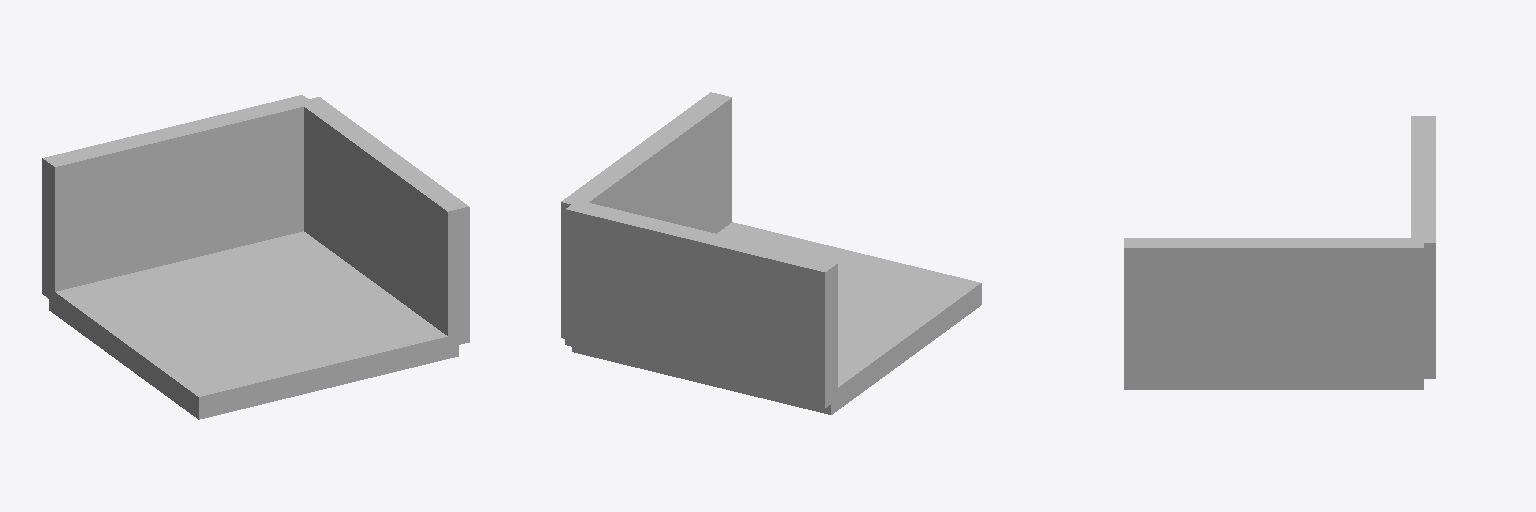
Rendered from tile8.obj.
3 renders of one model, left to right at view 1: azimuth 30°, elevation 25°; view 2: azimuth 150°, elevation 25°; view 3: azimuth 270°, elevation 25°, orthographic.
Parts seen in each view (by area): view 1: Cube_Cube.001, Cube.002_Cube.005, Cube.001_Cube.004; view 2: Cube.002_Cube.005, Cube_Cube.001, Cube.001_Cube.004; view 3: Cube.001_Cube.004, Cube.002_Cube.005, Cube_Cube.001.
Part boxes in pixels (left/top/right/bottom): Cube_Cube.001: left=49, top=231, right=458, bottom=419; Cube.002_Cube.005: left=42, top=95, right=313, bottom=298; Cube.001_Cube.004: left=304, top=97, right=469, bottom=344; Cube.002_Cube.005: left=565, top=200, right=837, bottom=407; Cube_Cube.001: left=572, top=222, right=981, bottom=414; Cube.001_Cube.004: left=561, top=92, right=731, bottom=338; Cube.001_Cube.004: left=1124, top=238, right=1423, bottom=383; Cube.002_Cube.005: left=1411, top=116, right=1435, bottom=378; Cube_Cube.001: left=1124, top=384, right=1423, bottom=389.
Size of the model in its own units: 12.5 by 6.5 by 12.5.